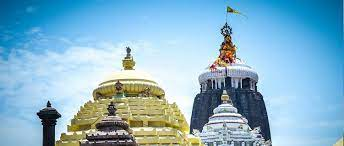Temple: (58, 44, 194, 146), (182, 7, 274, 146)
